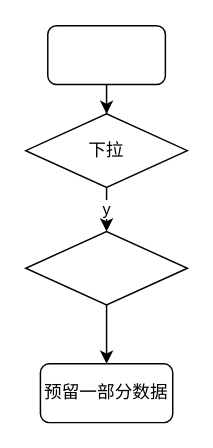
This 213x448 diagram has some shape labels left out. Here are the shapes that lost their labels. From the top down, the box of each, then its label:
(46, 24, 165, 85): start
(24, 230, 187, 305): 是否更新
